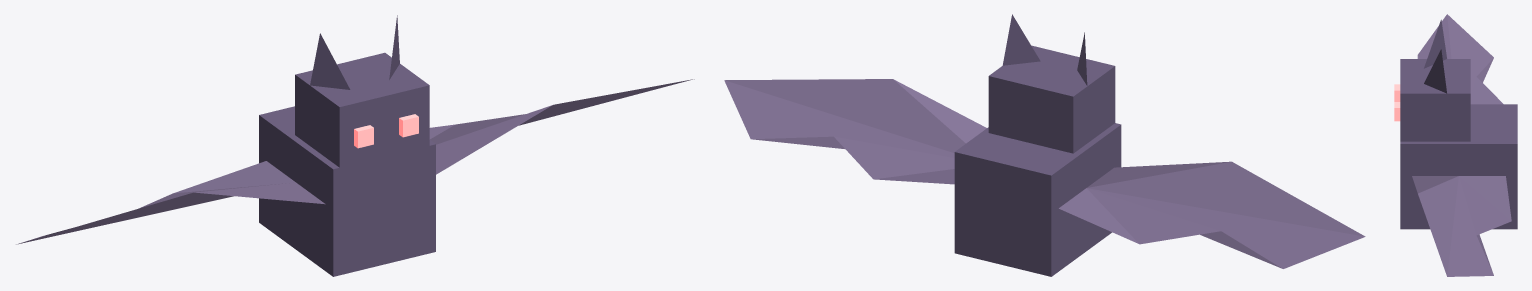
The model's file is bat.glb.
3 renders of one model, left to right at view 1: azimuth 30°, elevation 25°; view 2: azimuth 150°, elevation 25°; view 3: azimuth 270°, elevation 25°, orthographic. The views are drawn at different scales.
Visible parts, largest first — view 1: bat, wing-right, wing-left; view 2: bat, wing-right, wing-left; view 3: bat, wing-left, wing-right.
Boxes of the visible parts, left/top/right/bottom form: bat: left=259, top=15, right=435, bottom=276; wing-right: left=16, top=161, right=325, bottom=244; wing-left: left=429, top=79, right=694, bottom=174; bat: left=954, top=14, right=1121, bottom=276; wing-right: left=1059, top=161, right=1365, bottom=268; wing-left: left=724, top=79, right=986, bottom=184; bat: left=1394, top=19, right=1517, bottom=229; wing-left: left=1412, top=176, right=1511, bottom=276; wing-right: left=1417, top=14, right=1503, bottom=104.
Bounding box in the file's own units: 1.06 × 0.33 × 0.21.
